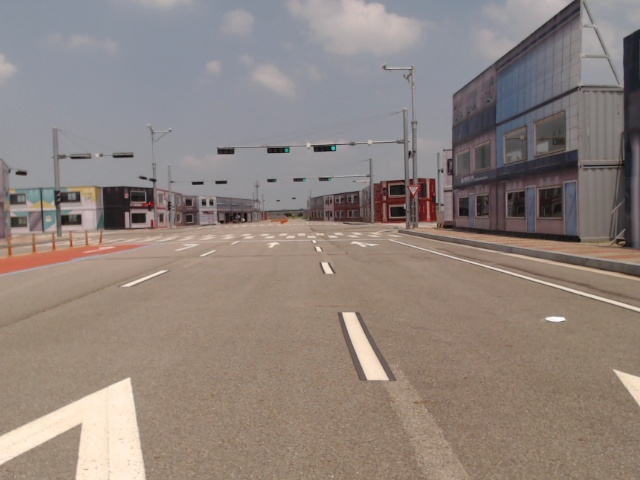straight_green_4: (314, 143, 337, 152), (267, 146, 291, 153), (318, 176, 333, 182), (292, 177, 308, 182)
